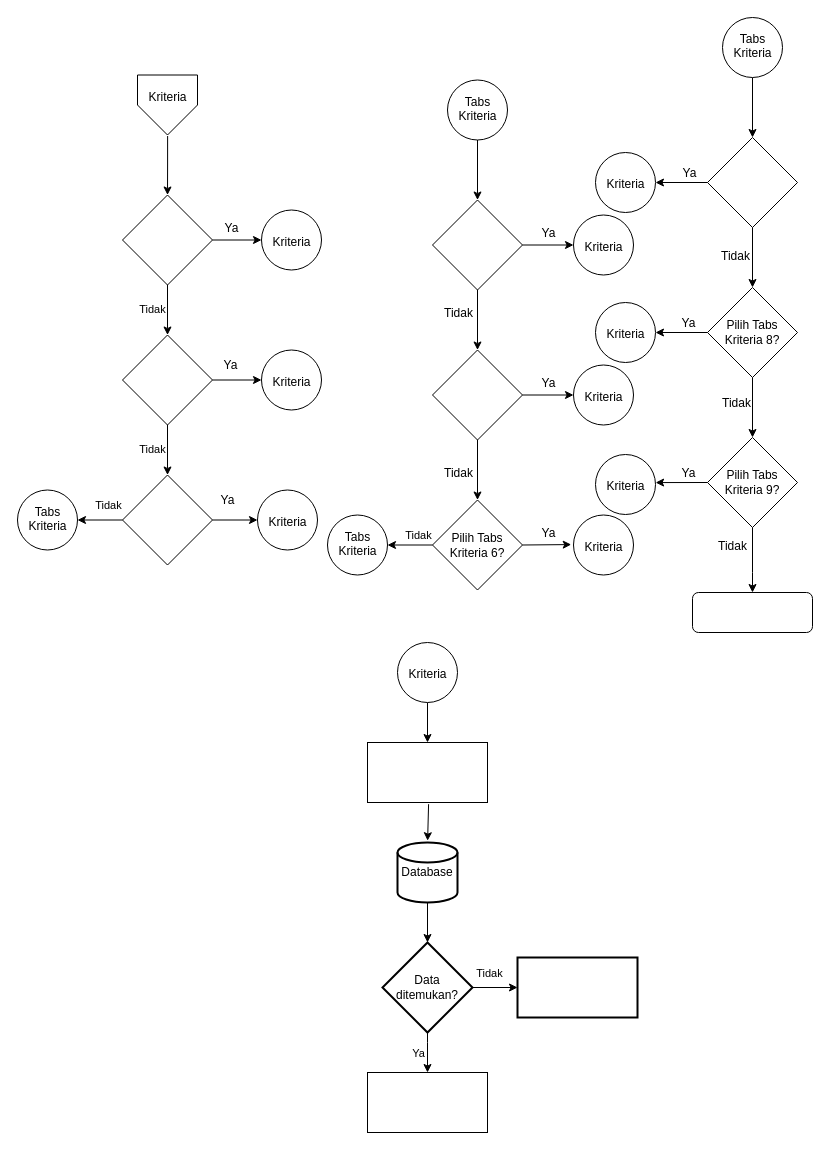
This 830x1150 diagram has some shape labels left out. The shapes that lost their labels are listed below. From the top down, each one's box as (x1, y1, x2, y2) in pixels, then its label:
(706, 136, 798, 228): Pilih Tabs Kriteria 7?
(122, 194, 212, 285): Pilih Tabs Kriteria 1?
(432, 199, 522, 290): Pilih Tabs Kriteria 4?
(122, 334, 212, 425): Pilih Tabs Kriteria 2?
(432, 349, 522, 440): Pilih Tabs Kriteria 5?
(122, 474, 212, 565): Pilih Tabs Kriteria 3?
(692, 592, 812, 632): Selesai
(366, 742, 488, 802): Mencari data sesuai dengan kriteria
(516, 956, 638, 1018): Menampilkan tulisan data tidak ditemukan
(366, 1072, 488, 1132): Menampilkan dokumen sesuai dengan kriteria
